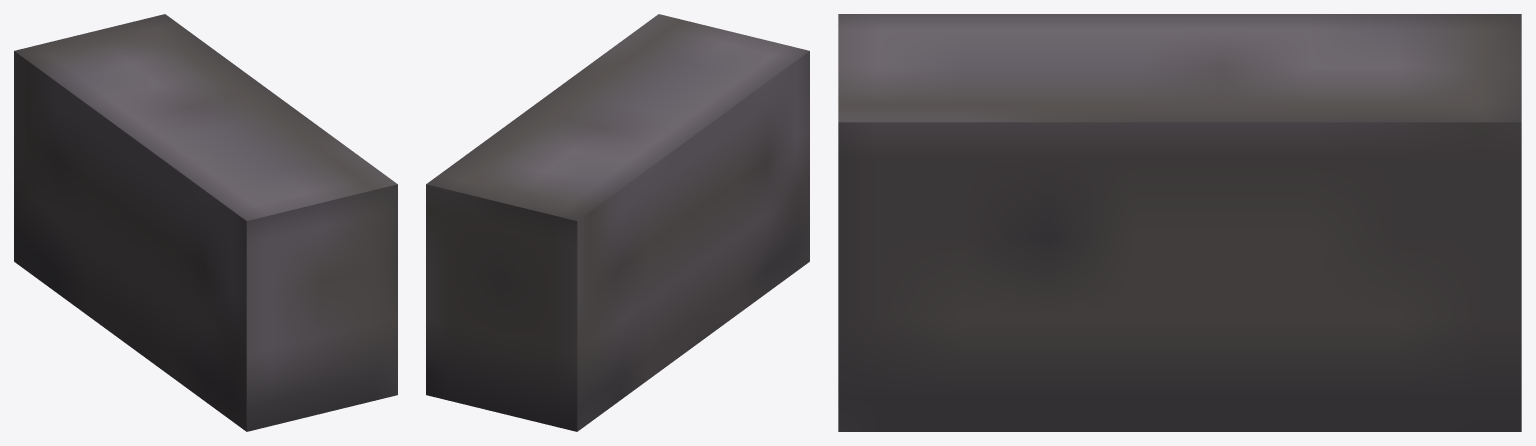
Rendered from cap_stone_left_purple.fbx.
The picture shows the model from 3 angles, left to right: view 1: azimuth 30°, elevation 25°; view 2: azimuth 150°, elevation 25°; view 3: azimuth 270°, elevation 25°; orthographic projection. The views are drawn at different scales.
Visible parts, largest first — view 1: cap_stone_left_purple; view 2: cap_stone_left_purple; view 3: cap_stone_left_purple.
Boxes of the visible parts, <box> form: cap_stone_left_purple: <box>14,14,397,431</box>; cap_stone_left_purple: <box>426,14,809,431</box>; cap_stone_left_purple: <box>838,14,1521,431</box>.
Bounding box in the file's own units: 3 × 4 × 8.
